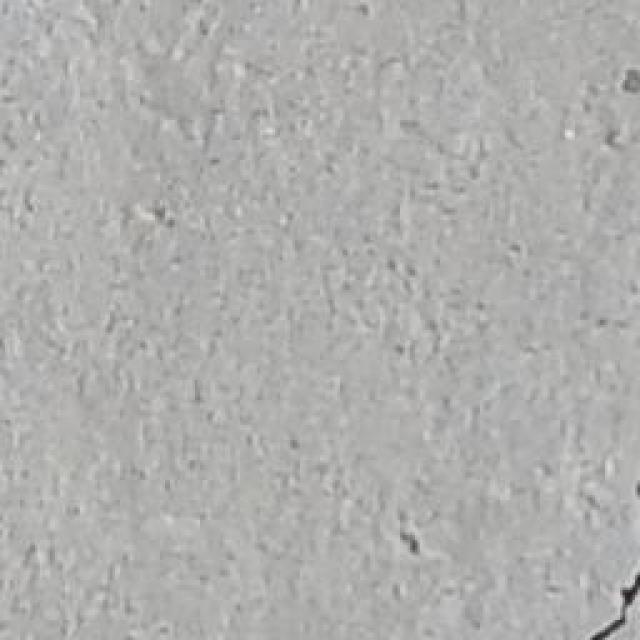concrete-crack: (591, 566, 639, 640)
